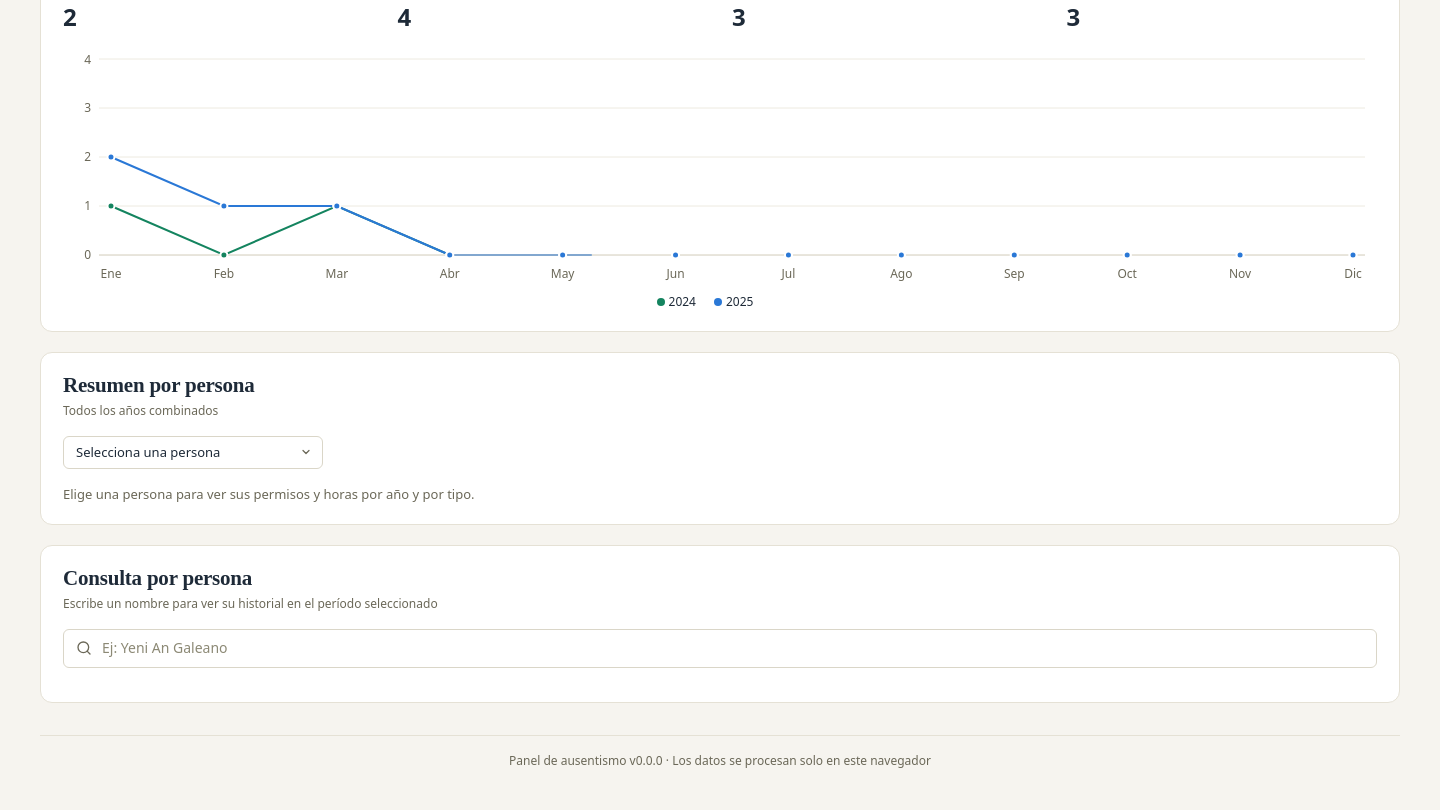
Dashboard › muestra el resumen de una persona
(page scrolled)
Expected: the text "Elige una persona" is shown, [63,485,386,503]
Select "José Pérez" in the dropdown named "Persona" at (193, 452), box [63,436,323,469]
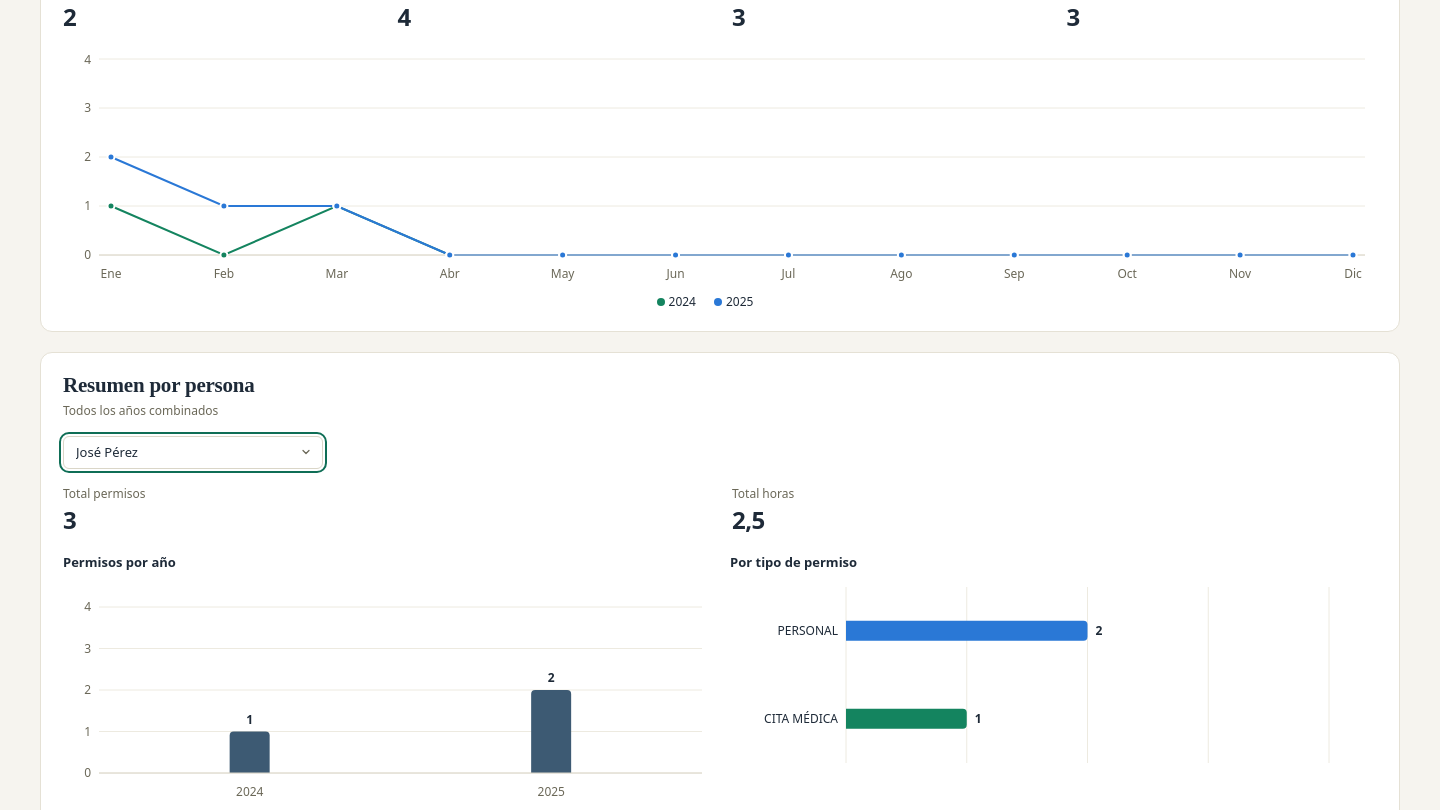
Now the text "3" next to "2,5" is shown, box [63,503,76,536]
Now the text "2,5" is shown, box [732,503,765,536]
